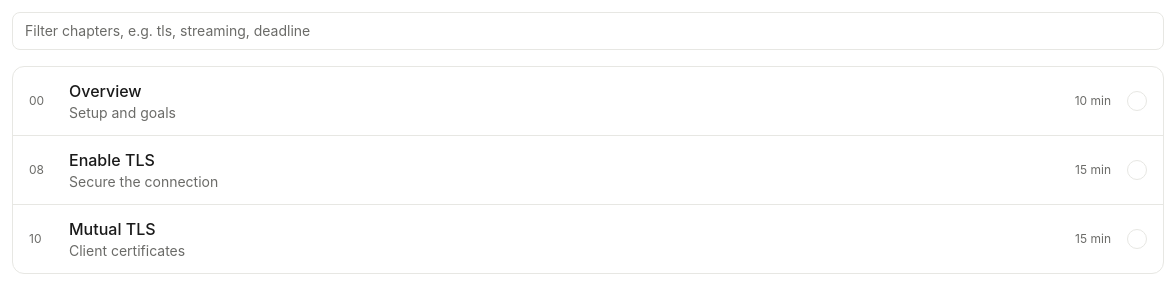
it: ChapterIndex › filters by title and summary, case-insensitively
Type "TLS" into the search field at (588, 31), box top-left (12, 12), bottom-right (1164, 50)
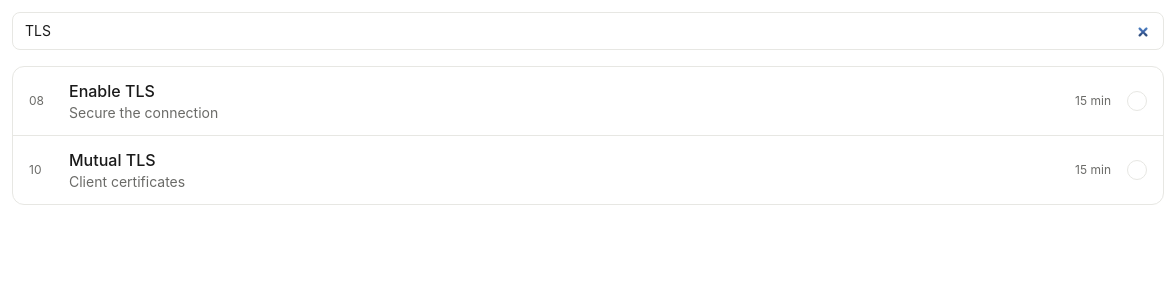
Now the number of links is 2, box top-left (13, 67), bottom-right (1163, 135); top-left (13, 136), bottom-right (1163, 204)
